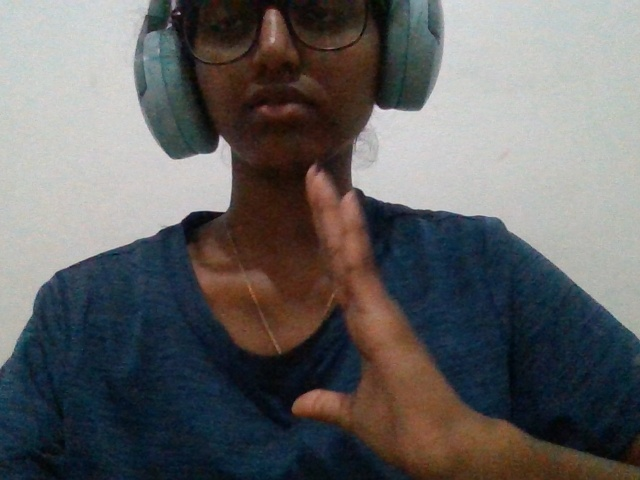Fine: (249, 147, 523, 480)
